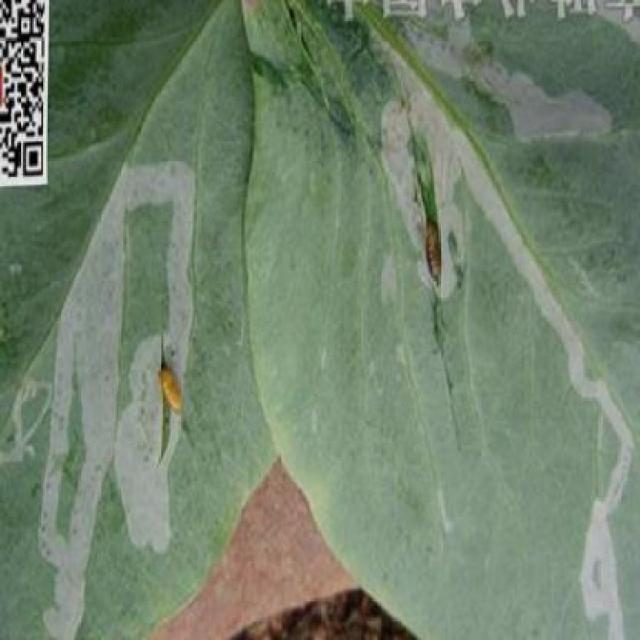whorl-maggot: (418, 211, 449, 291), (154, 359, 189, 426)
